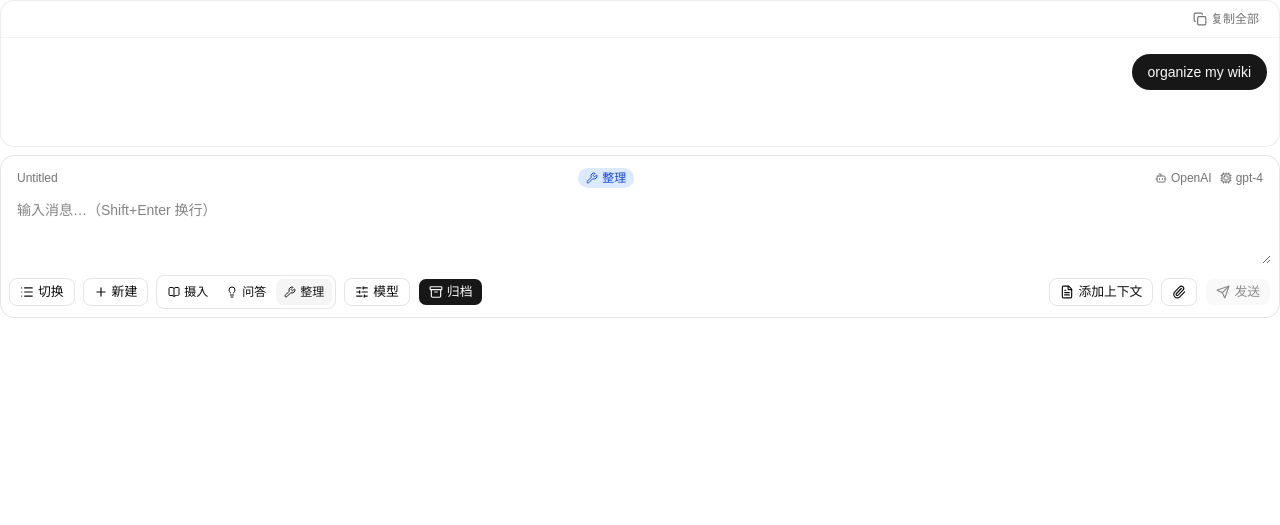
Test: IngestChat › shows deep organize checkbox only in organize mode
Expected: the text "organize my wiki" is shown, [1148,62,1251,82]
Click the button "归档": (451, 292) [418,278,483,306]
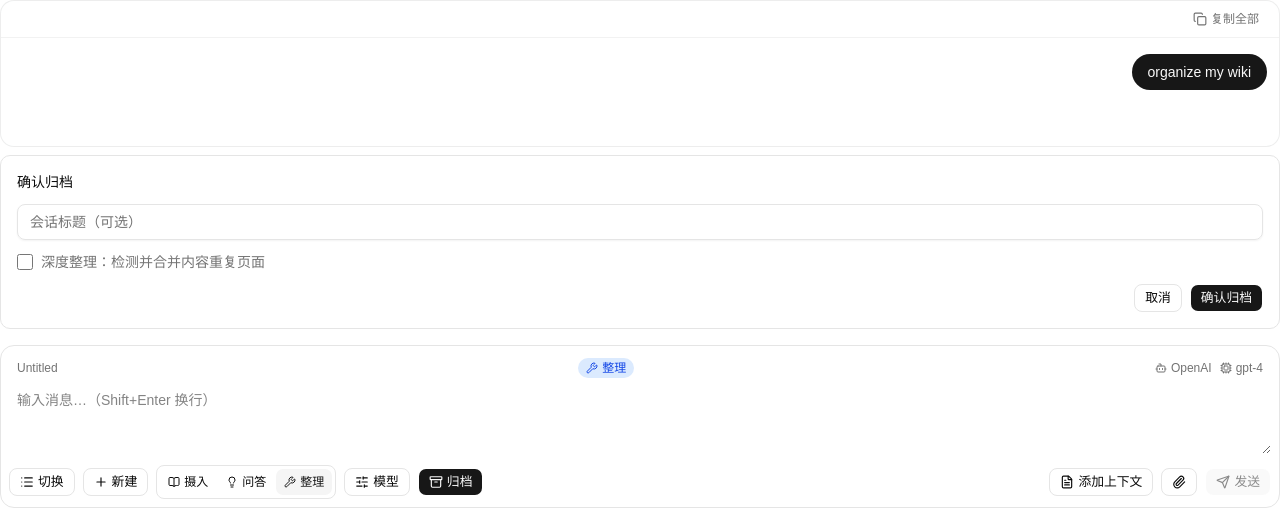
Expected: the text "深度整理：检测并合并内容重复页面" is shown, [41,252,265,272]
